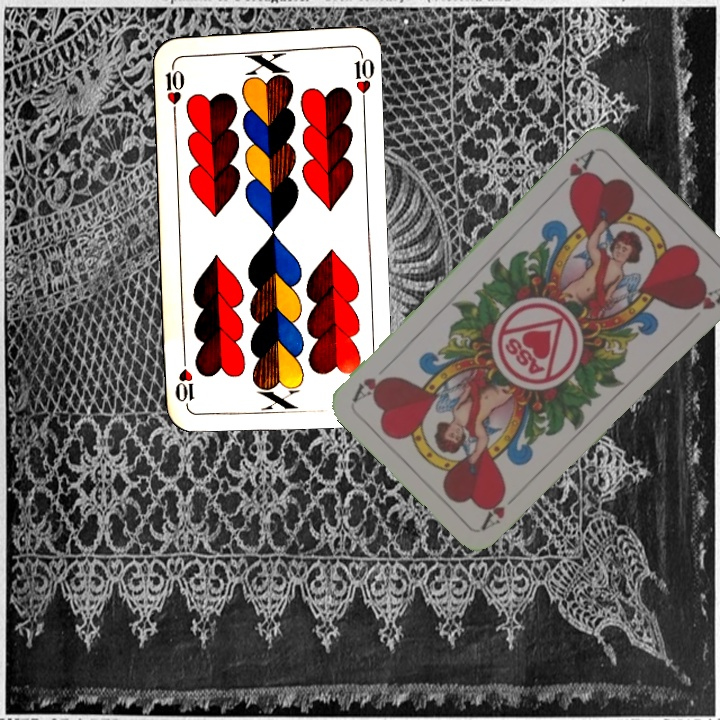H10: (161, 58, 187, 117)
HA: (552, 145, 597, 196), (478, 486, 526, 531)
